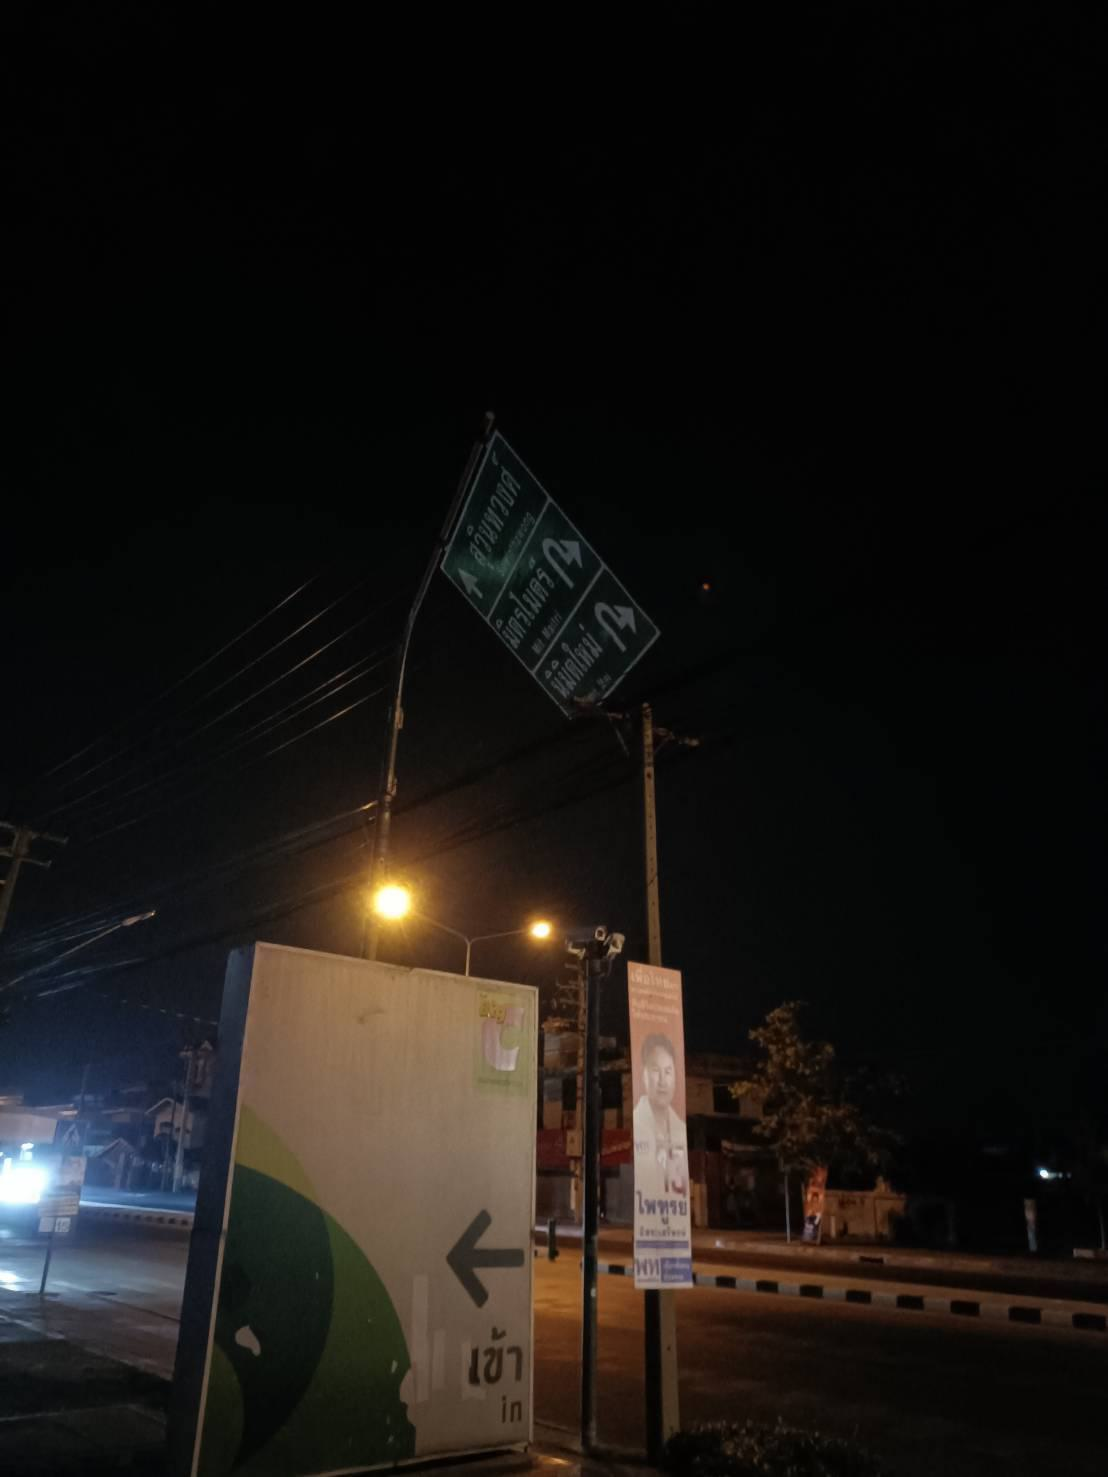Banner: (628, 960, 695, 1290)
